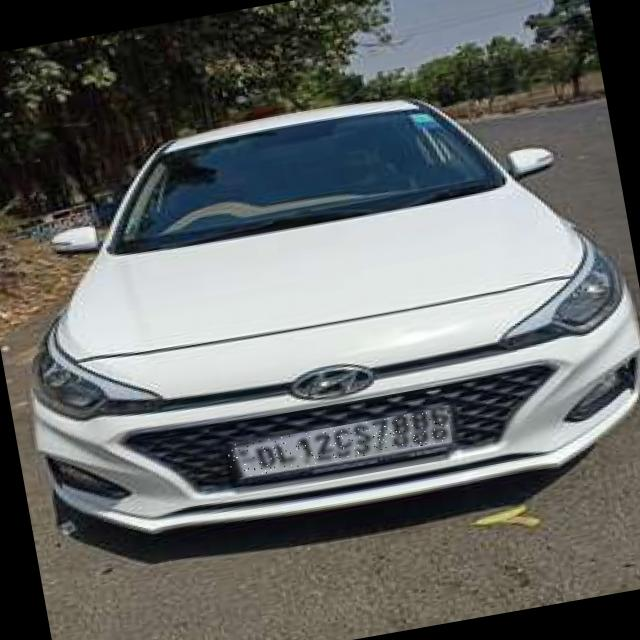Plate: (227, 408, 453, 480)
